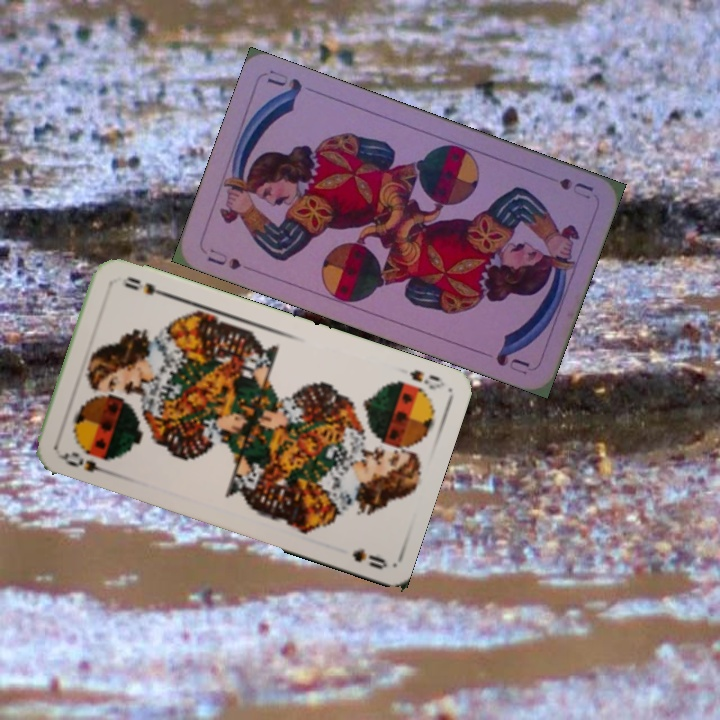SO: (55, 447, 113, 477), (405, 365, 448, 393)
SU: (203, 244, 244, 273), (555, 174, 596, 202)
